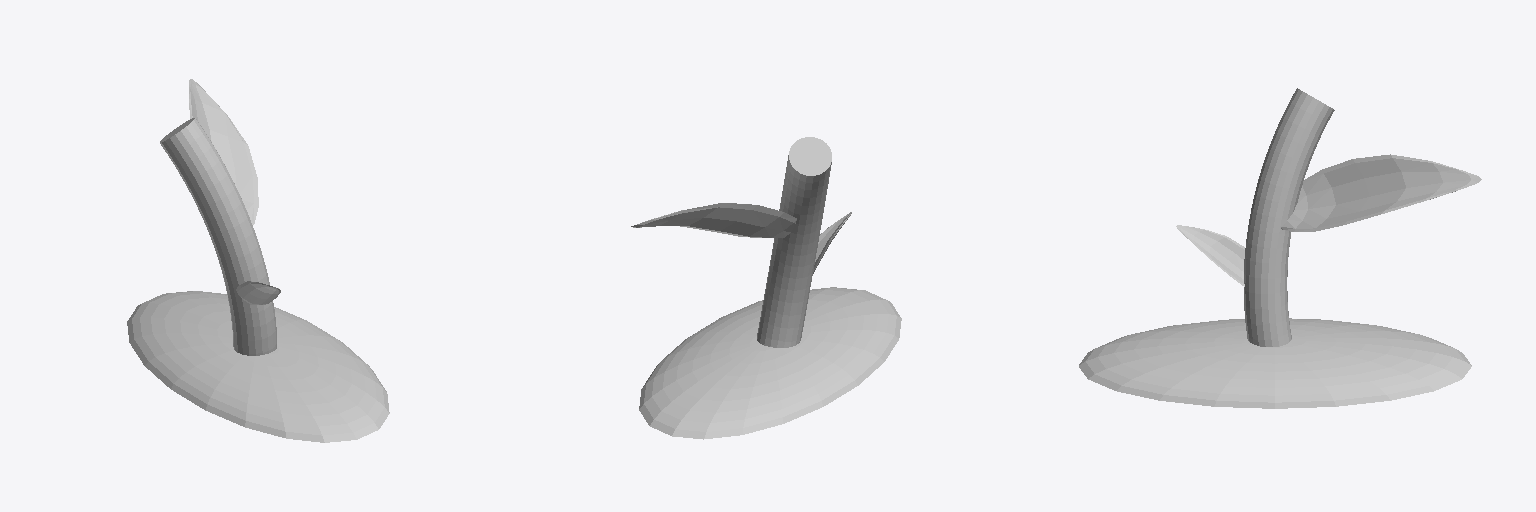
The model's file is appleTopper.obj.
The picture shows the model from 3 angles: view 1: azimuth 30°, elevation 25°; view 2: azimuth 150°, elevation 25°; view 3: azimuth 270°, elevation 25°; orthographic projection.
Parts seen in each view (by area): view 1: appleTopper:pSphere1, appleTopper:pCylinder2, appleTopper:pCube1, appleTopper:pCube2; view 2: appleTopper:pSphere1, appleTopper:pCylinder2, appleTopper:pCube1, appleTopper:pCube2; view 3: appleTopper:pSphere1, appleTopper:pCylinder2, appleTopper:pCube1, appleTopper:pCube2.
Part boxes in pixels (x1,y1,x2,y2): appleTopper:pSphere1: (127,291,389,442); appleTopper:pCylinder2: (160,118,276,355); appleTopper:pCube1: (189,79,258,224); appleTopper:pCube2: (236,281,280,304); appleTopper:pSphere1: (639,287,901,439); appleTopper:pCylinder2: (757,137,831,347); appleTopper:pCube1: (631,203,796,237); appleTopper:pCube2: (813,212,851,273); appleTopper:pSphere1: (1079,318,1471,408); appleTopper:pCylinder2: (1244,88,1334,346); appleTopper:pCube1: (1281,154,1481,231); appleTopper:pCube2: (1176,225,1244,286).
Size of the model in its own units: 1.11 by 1.69 by 2.2.